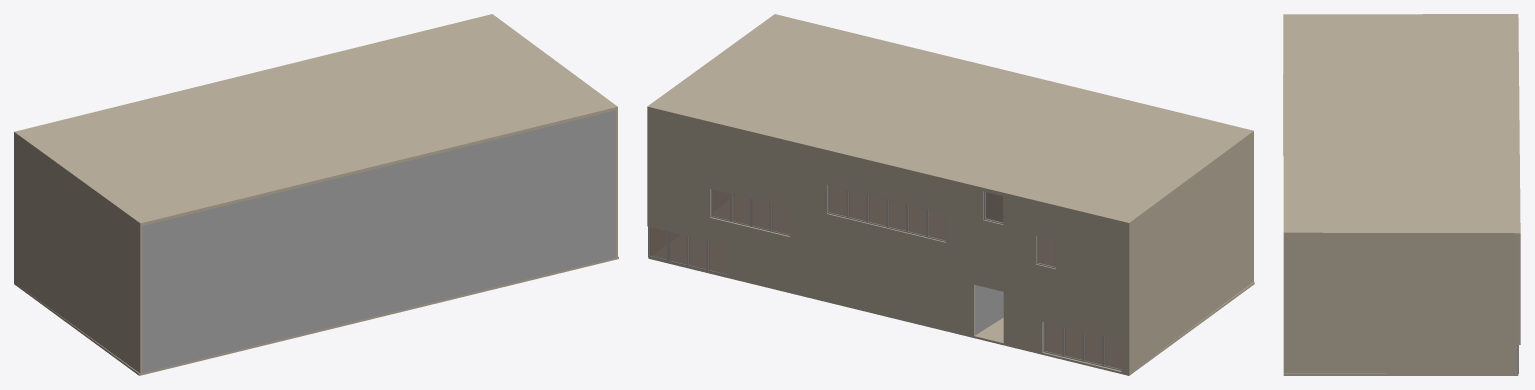
File: hnew4.glb
3 renders of one model, left to right at view 1: azimuth 30°, elevation 25°; view 2: azimuth 150°, elevation 25°; view 3: azimuth 270°, elevation 25°, orthographic. The views are drawn at different scales.
Size of the model in its own units: 2917 by 886 by 1334.
